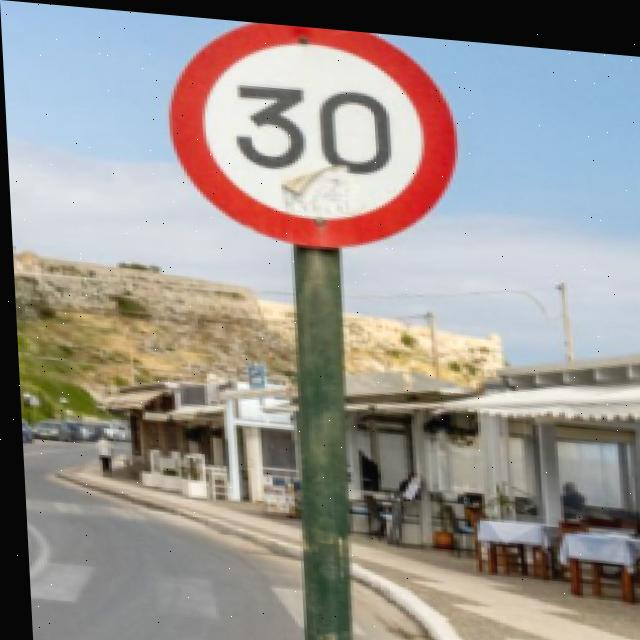Speed limit 30: (159, 12, 465, 255)
